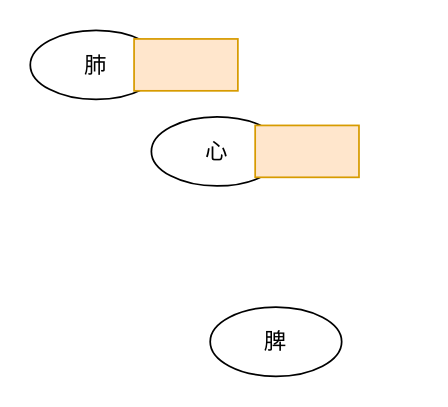
The diagram is 448 pixels wide and 407 high, and some of its shapes have lost their labels. Here are the shapes that lost their labels. From the top down, the box of each, then its label:
(132, 37, 238, 91): 肺朝百脉
(253, 124, 359, 177): 心化赤
